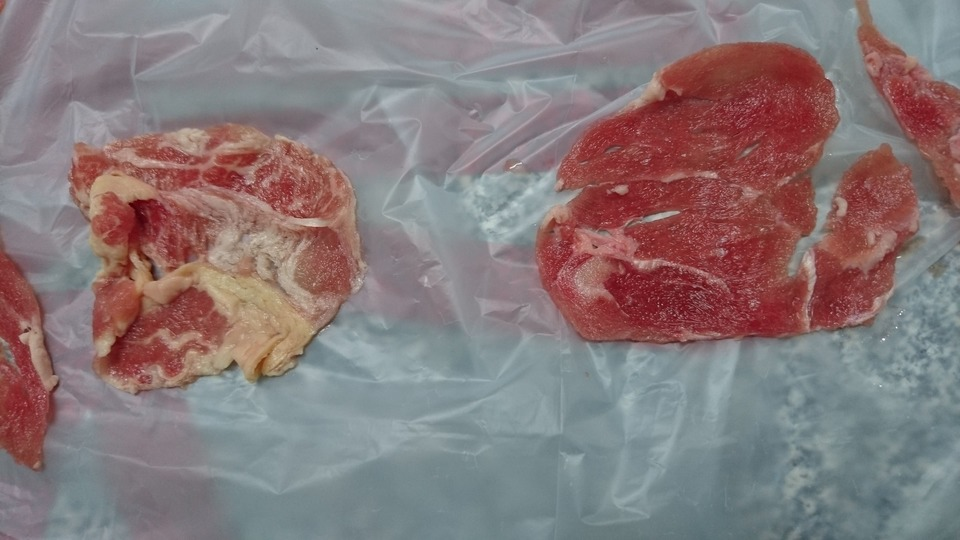restructured meat: (534, 27, 921, 341), (66, 130, 384, 386)
